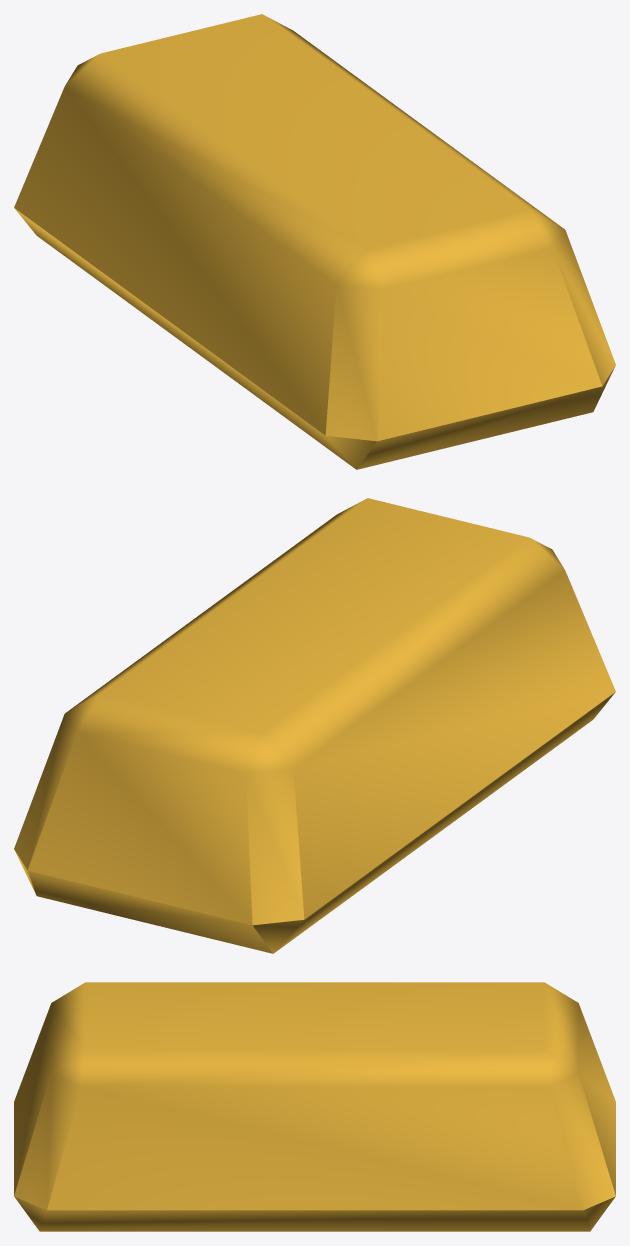
Rendered from barra_ouro_grande_pacote.glb.
3 views of the same model, one above another, from view 1: azimuth 30°, elevation 25°; view 2: azimuth 150°, elevation 25°; view 3: azimuth 270°, elevation 25° (orthographic). The views are drawn at different scales.
Parts seen in each view (by area): view 1: barra_ouro_grande_pacote; view 2: barra_ouro_grande_pacote; view 3: barra_ouro_grande_pacote.
Boxes of the visible parts, x1,y1,x2,y2 form: barra_ouro_grande_pacote: (14,14,615,469); barra_ouro_grande_pacote: (14,498,615,953); barra_ouro_grande_pacote: (14,982,615,1231).
Bounding box in the file's own units: 0.1248 × 0.079 × 0.2604.
Materials: 1 (1 with a texture image).
